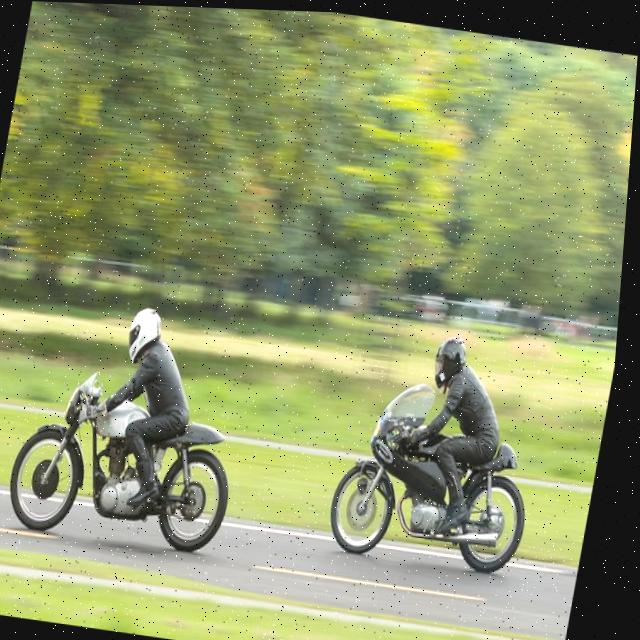motorcycle: (0, 355, 253, 563), (317, 368, 553, 582)
